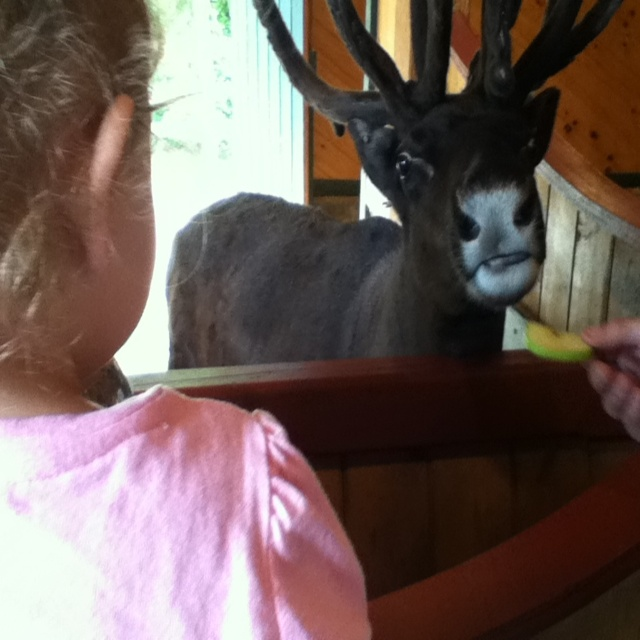Deer: (165, 0, 618, 364)
